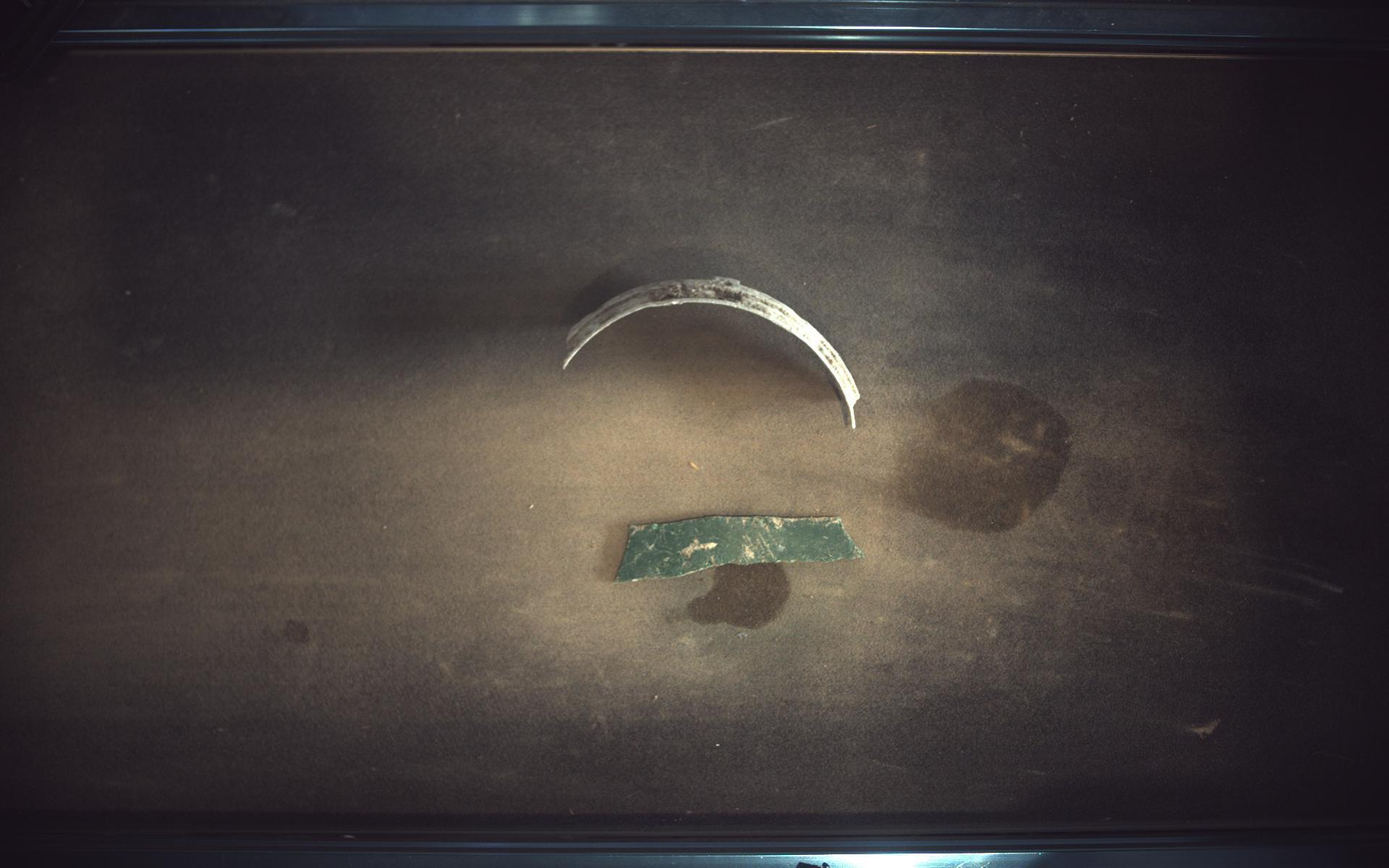plastic: (563, 276, 862, 428), (616, 516, 866, 582)
